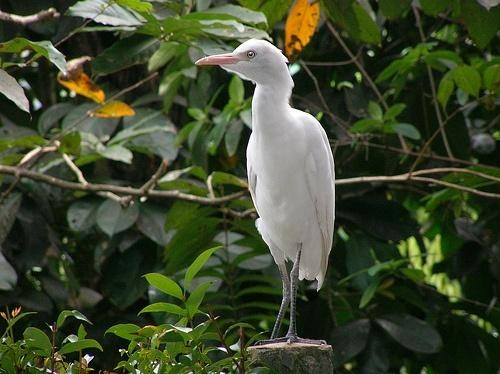bird: (193, 38, 339, 348)
